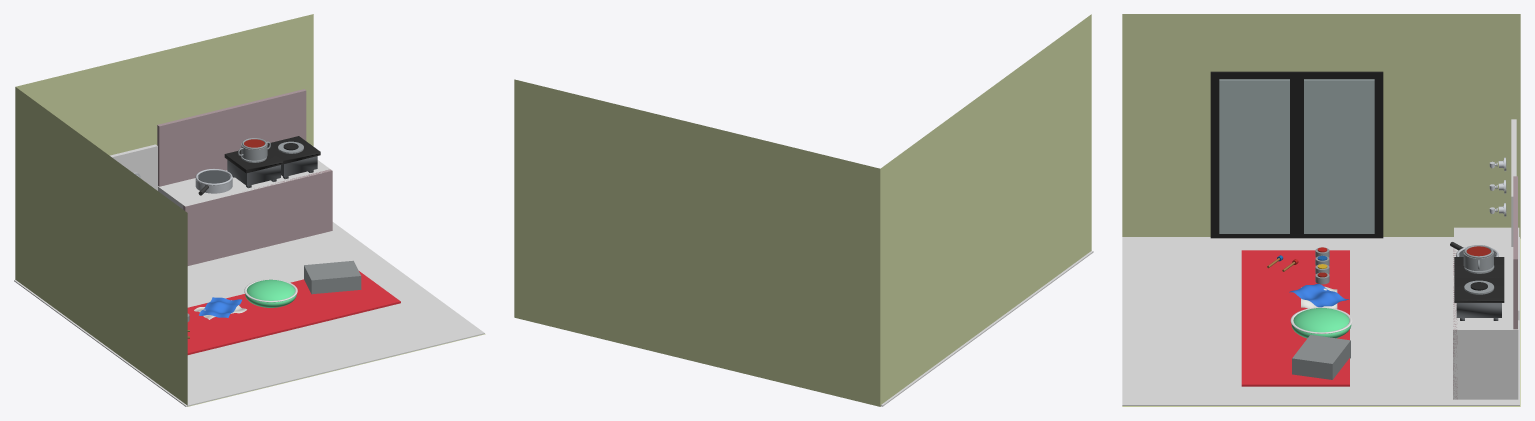
The picture shows the model from 3 angles, left to right: view 1: azimuth 30°, elevation 25°; view 2: azimuth 150°, elevation 25°; view 3: azimuth 270°, elevation 25°; orthographic projection. The views are drawn at different scales.
Visible parts, largest first — view 1: Plane, Kubus.006, Kubus.004, Kubus.005, Kubus.003, Kubus, Baskom Kotak, BATIK_Kompor_Tengah.002, BATIK_Kompor_Tengah.001, Kubus.001, Baskom Bulat, Panci Kosong (+2 smaller); view 2: Plane, Kubus.006; view 3: Plane, Kubus.006, Cube.002, Cube.001, Kubus.003, Kubus, Baskom Kotak, BATIK_Kompor_Tengah.002, Baskom Bulat, Kubus.002, Kubus.005, Kain Putih Kusut.001 (+4 smaller).
Boxes of the visible parts, x1=… form: Plane: x1=15, y1=14, x2=485, y2=406; Kubus.006: x1=14, y1=222, x2=484, y2=406; Kubus.004: x1=183, y1=169, x2=332, y2=265; Kubus.005: x1=157, y1=89, x2=306, y2=186; Kubus.003: x1=187, y1=271, x2=400, y2=354; Kubus: x1=158, y1=160, x2=331, y2=209; Baskom Kotak: x1=304, y1=260, x2=361, y2=294; BATIK_Kompor_Tengah.002: x1=267, y1=136, x2=320, y2=176; BATIK_Kompor_Tengah.001: x1=224, y1=150, x2=283, y2=185; Kubus.001: x1=110, y1=144, x2=157, y2=190; Baskom Bulat: x1=245, y1=279, x2=296, y2=307; Panci Kosong: x1=195, y1=168, x2=232, y2=195; Plane: x1=514, y1=14, x2=1091, y2=406; Kubus.006: x1=880, y1=251, x2=1093, y2=406; Plane: x1=1122, y1=14, x2=1520, y2=406; Kubus.006: x1=1122, y1=237, x2=1519, y2=405; Cube.002: x1=1210, y1=71, x2=1298, y2=238; Cube.001: x1=1295, y1=71, x2=1383, y2=238; Kubus.003: x1=1241, y1=250, x2=1349, y2=386; Kubus: x1=1453, y1=247, x2=1518, y2=399; Baskom Kotak: x1=1292, y1=335, x2=1350, y2=379; BATIK_Kompor_Tengah.002: x1=1454, y1=277, x2=1504, y2=317; Baskom Bulat: x1=1291, y1=308, x2=1351, y2=338; Kubus.002: x1=1454, y1=227, x2=1519, y2=320; Kubus.005: x1=1513, y1=176, x2=1517, y2=329; Kain Putih Kusut.001: x1=1289, y1=284, x2=1348, y2=307.
Size of the model in its own units: 3.98 by 2.47 by 3.96.
